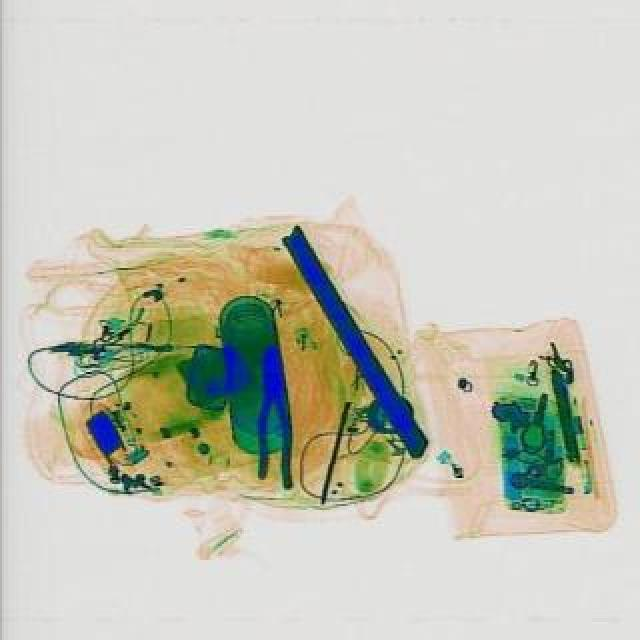wrench: (252, 346, 294, 490)
